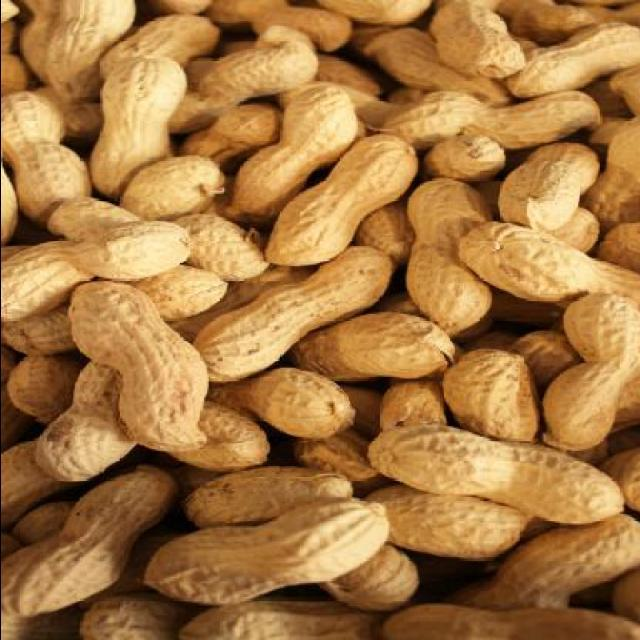Frutta secca: (17, 14, 623, 628), (260, 134, 418, 272)
